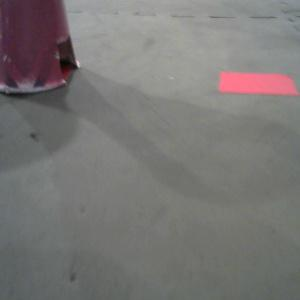middle: (1, 1, 82, 100)
